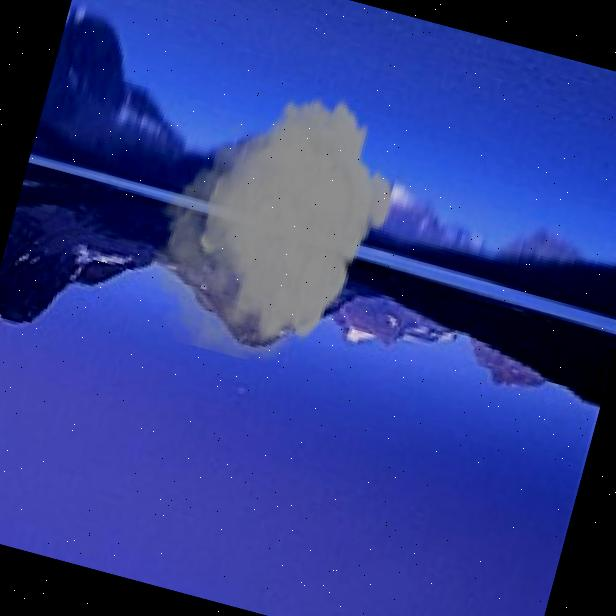smoke: (125, 57, 418, 387)
